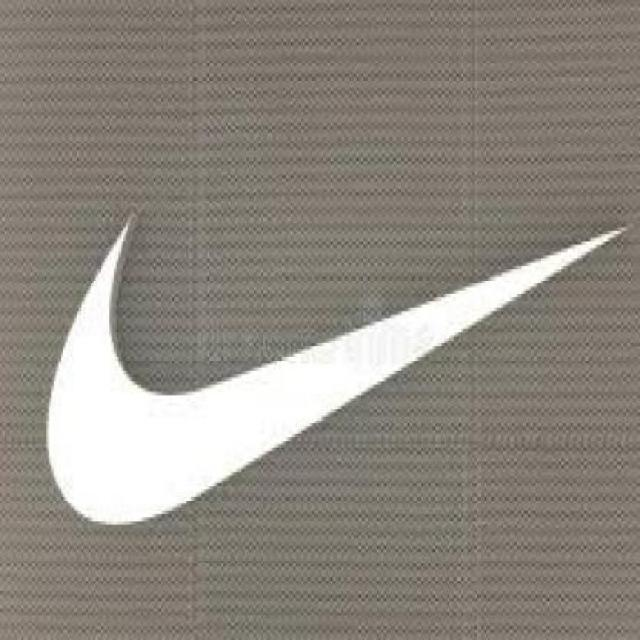Nike: (37, 203, 631, 525)
